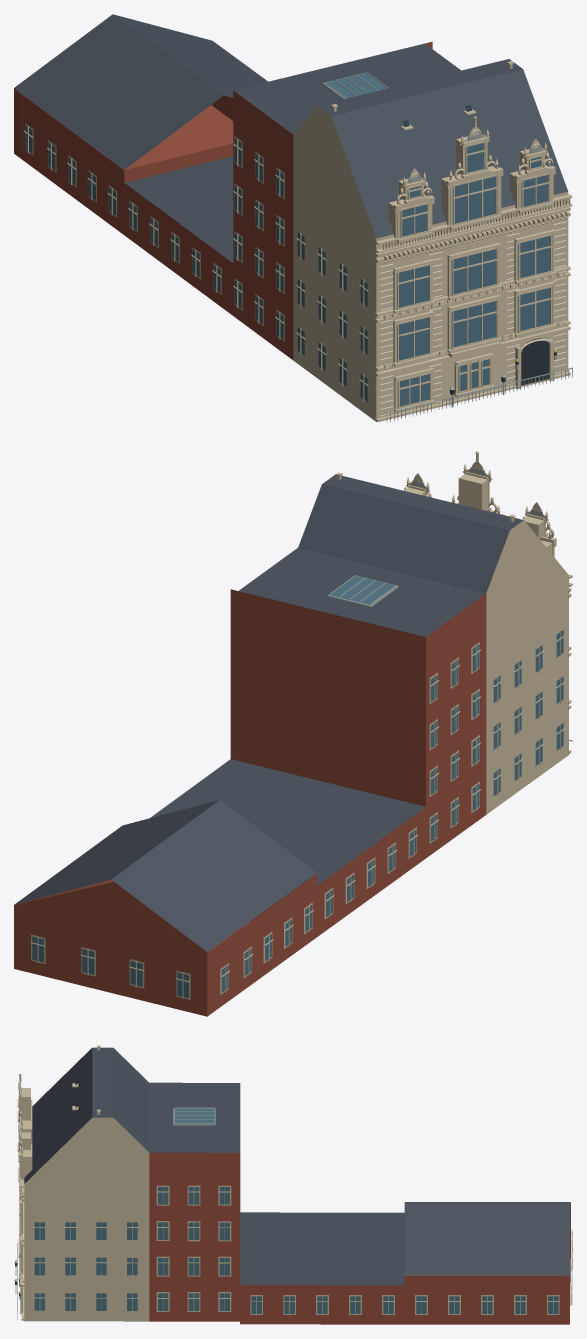
Rendered from niod.glb.
3 views of the same model, one above another, from view 1: azimuth 30°, elevation 25°; view 2: azimuth 150°, elevation 25°; view 3: azimuth 270°, elevation 25° (orthographic). The views are drawn at different scales.
Parts seen in each view (by area): view 1: niod; view 2: niod; view 3: niod.
Boxes of the visible parts, x1,y1,x2,y2 form: niod: (14, 14, 572, 422); niod: (14, 451, 572, 1016); niod: (14, 1045, 572, 1324).
Bounding box in the file's own units: 17.73 × 23.4 × 55.76.
